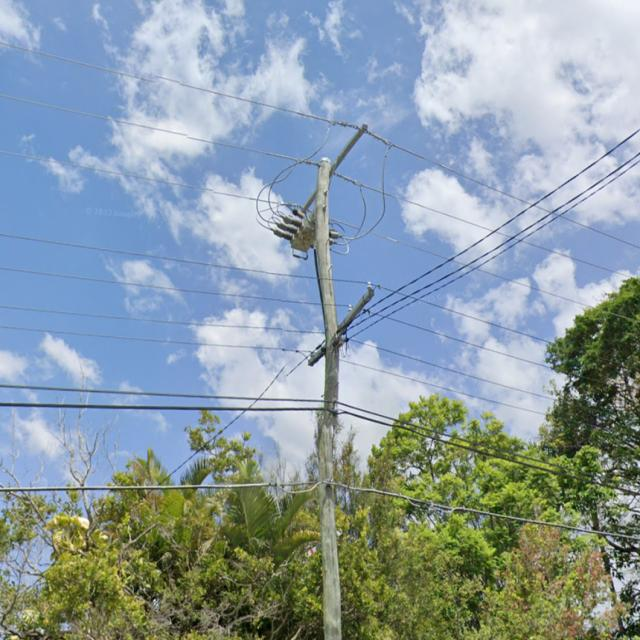HV-switch: (272, 206, 343, 262)
HV-transmission: (276, 120, 370, 208)
crossarm: (300, 121, 370, 215), (306, 286, 377, 369)
timber-pole: (314, 155, 342, 640)
